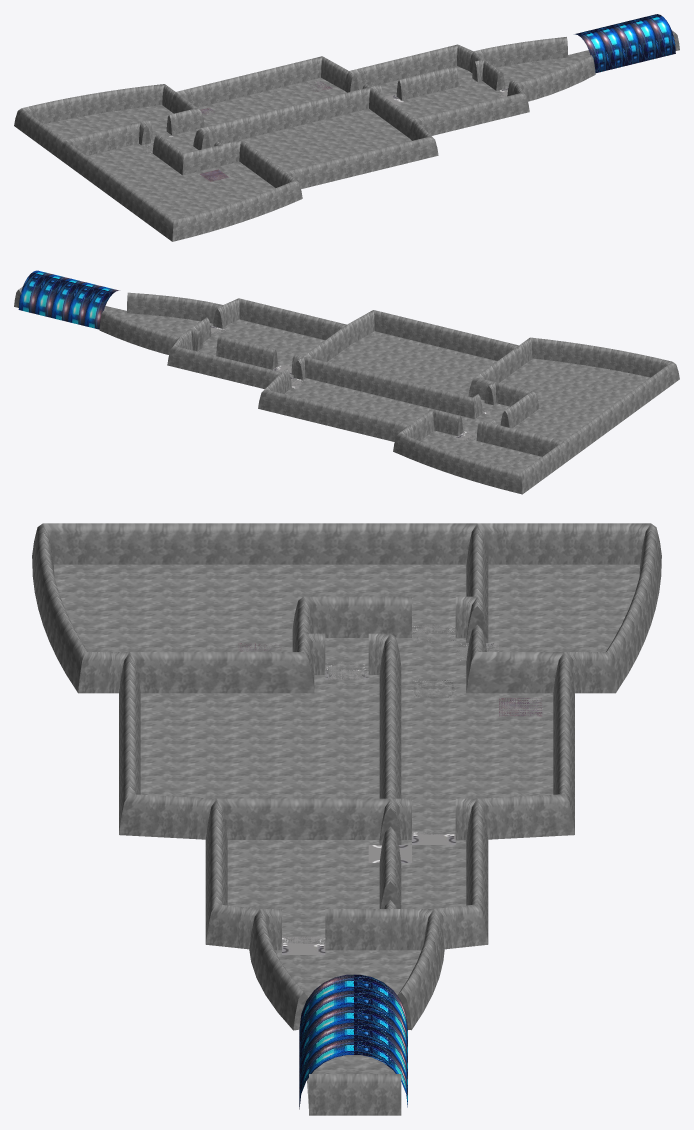
Rendered from level_3.gltf.
3 views of the same model, one above another, from view 1: azimuth 30°, elevation 25°; view 2: azimuth 150°, elevation 25°; view 3: azimuth 270°, elevation 25° (orthographic). The views are drawn at different scales.
Visible parts, largest first — view 1: Mesh_5, Mesh_106, Mesh_80, Mesh_1, Mesh_16, Mesh_43, Mesh_10, Mesh_53, Mesh_57, Mesh_0, Mesh_4, Mesh_20 (+22 smaller); view 2: Mesh_5, Mesh_80, Mesh_106, Mesh_0, Mesh_43, Mesh_16, Mesh_10, Mesh_53, Mesh_57, Mesh_1, Mesh_4, Mesh_36 (+21 smaller); view 3: Mesh_5, Mesh_57, Mesh_4, Mesh_1, Mesh_0, Mesh_2, Mesh_7, Mesh_106, Mesh_14, Mesh_74, Mesh_55, Mesh_62 (+31 smaller).
Part boxes in pixels (x1,y1,x2,y2): Mesh_5: [244, 112, 406, 171]; Mesh_106: [574, 14, 675, 73]; Mesh_80: [201, 87, 370, 147]; Mesh_1: [90, 144, 183, 219]; Mesh_16: [285, 136, 438, 188]; Mesh_43: [176, 56, 322, 107]; Mesh_10: [172, 180, 302, 241]; Mesh_53: [22, 84, 164, 124]; Mesh_57: [60, 140, 174, 241]; Mesh_0: [177, 173, 271, 219]; Mesh_4: [201, 81, 341, 125]; Mesh_20: [415, 92, 529, 135]; Mesh_5: [332, 334, 494, 408]; Mesh_80: [303, 356, 474, 418]; Mesh_106: [18, 270, 119, 329]; Mesh_0: [504, 361, 647, 406]; Mesh_43: [258, 389, 409, 441]; Mesh_16: [373, 310, 518, 360]; Mesh_10: [530, 337, 671, 377]; Mesh_53: [393, 433, 522, 494]; Mesh_57: [564, 362, 679, 460]; Mesh_1: [517, 387, 636, 440]; Mesh_4: [289, 378, 429, 424]; Mesh_36: [167, 346, 281, 389]; Mesh_5: [141, 670, 378, 798]; Mesh_57: [43, 523, 476, 564]; Mesh_4: [412, 675, 542, 834]; Mesh_1: [76, 569, 455, 633]; Mesh_0: [64, 569, 281, 651]; Mesh_2: [485, 569, 629, 651]; Mesh_7: [238, 840, 379, 943]; Mesh_106: [299, 974, 407, 1109]; Mesh_14: [130, 652, 314, 693]; Mesh_74: [217, 798, 389, 839]; Mesh_55: [477, 523, 650, 564]; Mesh_62: [304, 596, 411, 637].
Bounding box in the file's own units: 49.58 × 2.27 × 23.57.
Materials: 7 (7 with a texture image).
